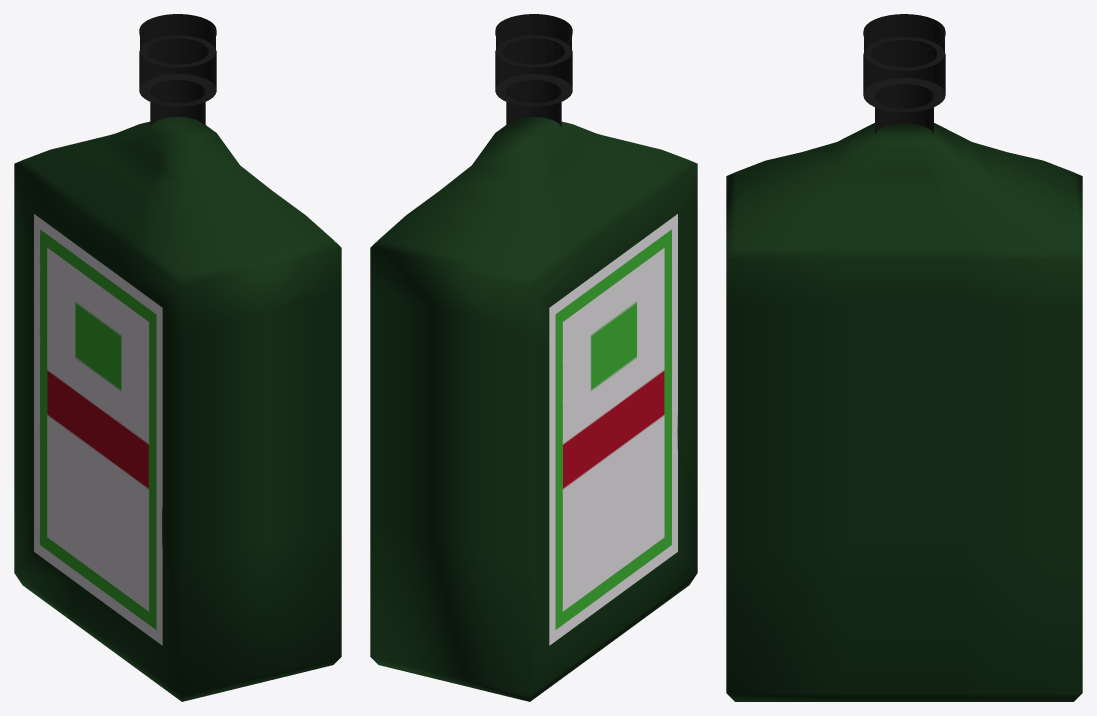
File: jaggerBottle.fbx
3 views of the same model, side by side, from view 1: azimuth 30°, elevation 25°; view 2: azimuth 150°, elevation 25°; view 3: azimuth 270°, elevation 25° (orthographic). The views are drawn at different scales.
Parts seen in each view (by area): view 1: Plane; view 2: Plane; view 3: Plane.
Part boxes in pixels (x1,y1,x2,y2): Plane: (14,14,341,701); Plane: (370,14,697,701); Plane: (726,14,1082,701).
Bounding box in the file's own units: 9.98 × 35.57 × 18.2.
Materials: 1 (1 with a texture image).
